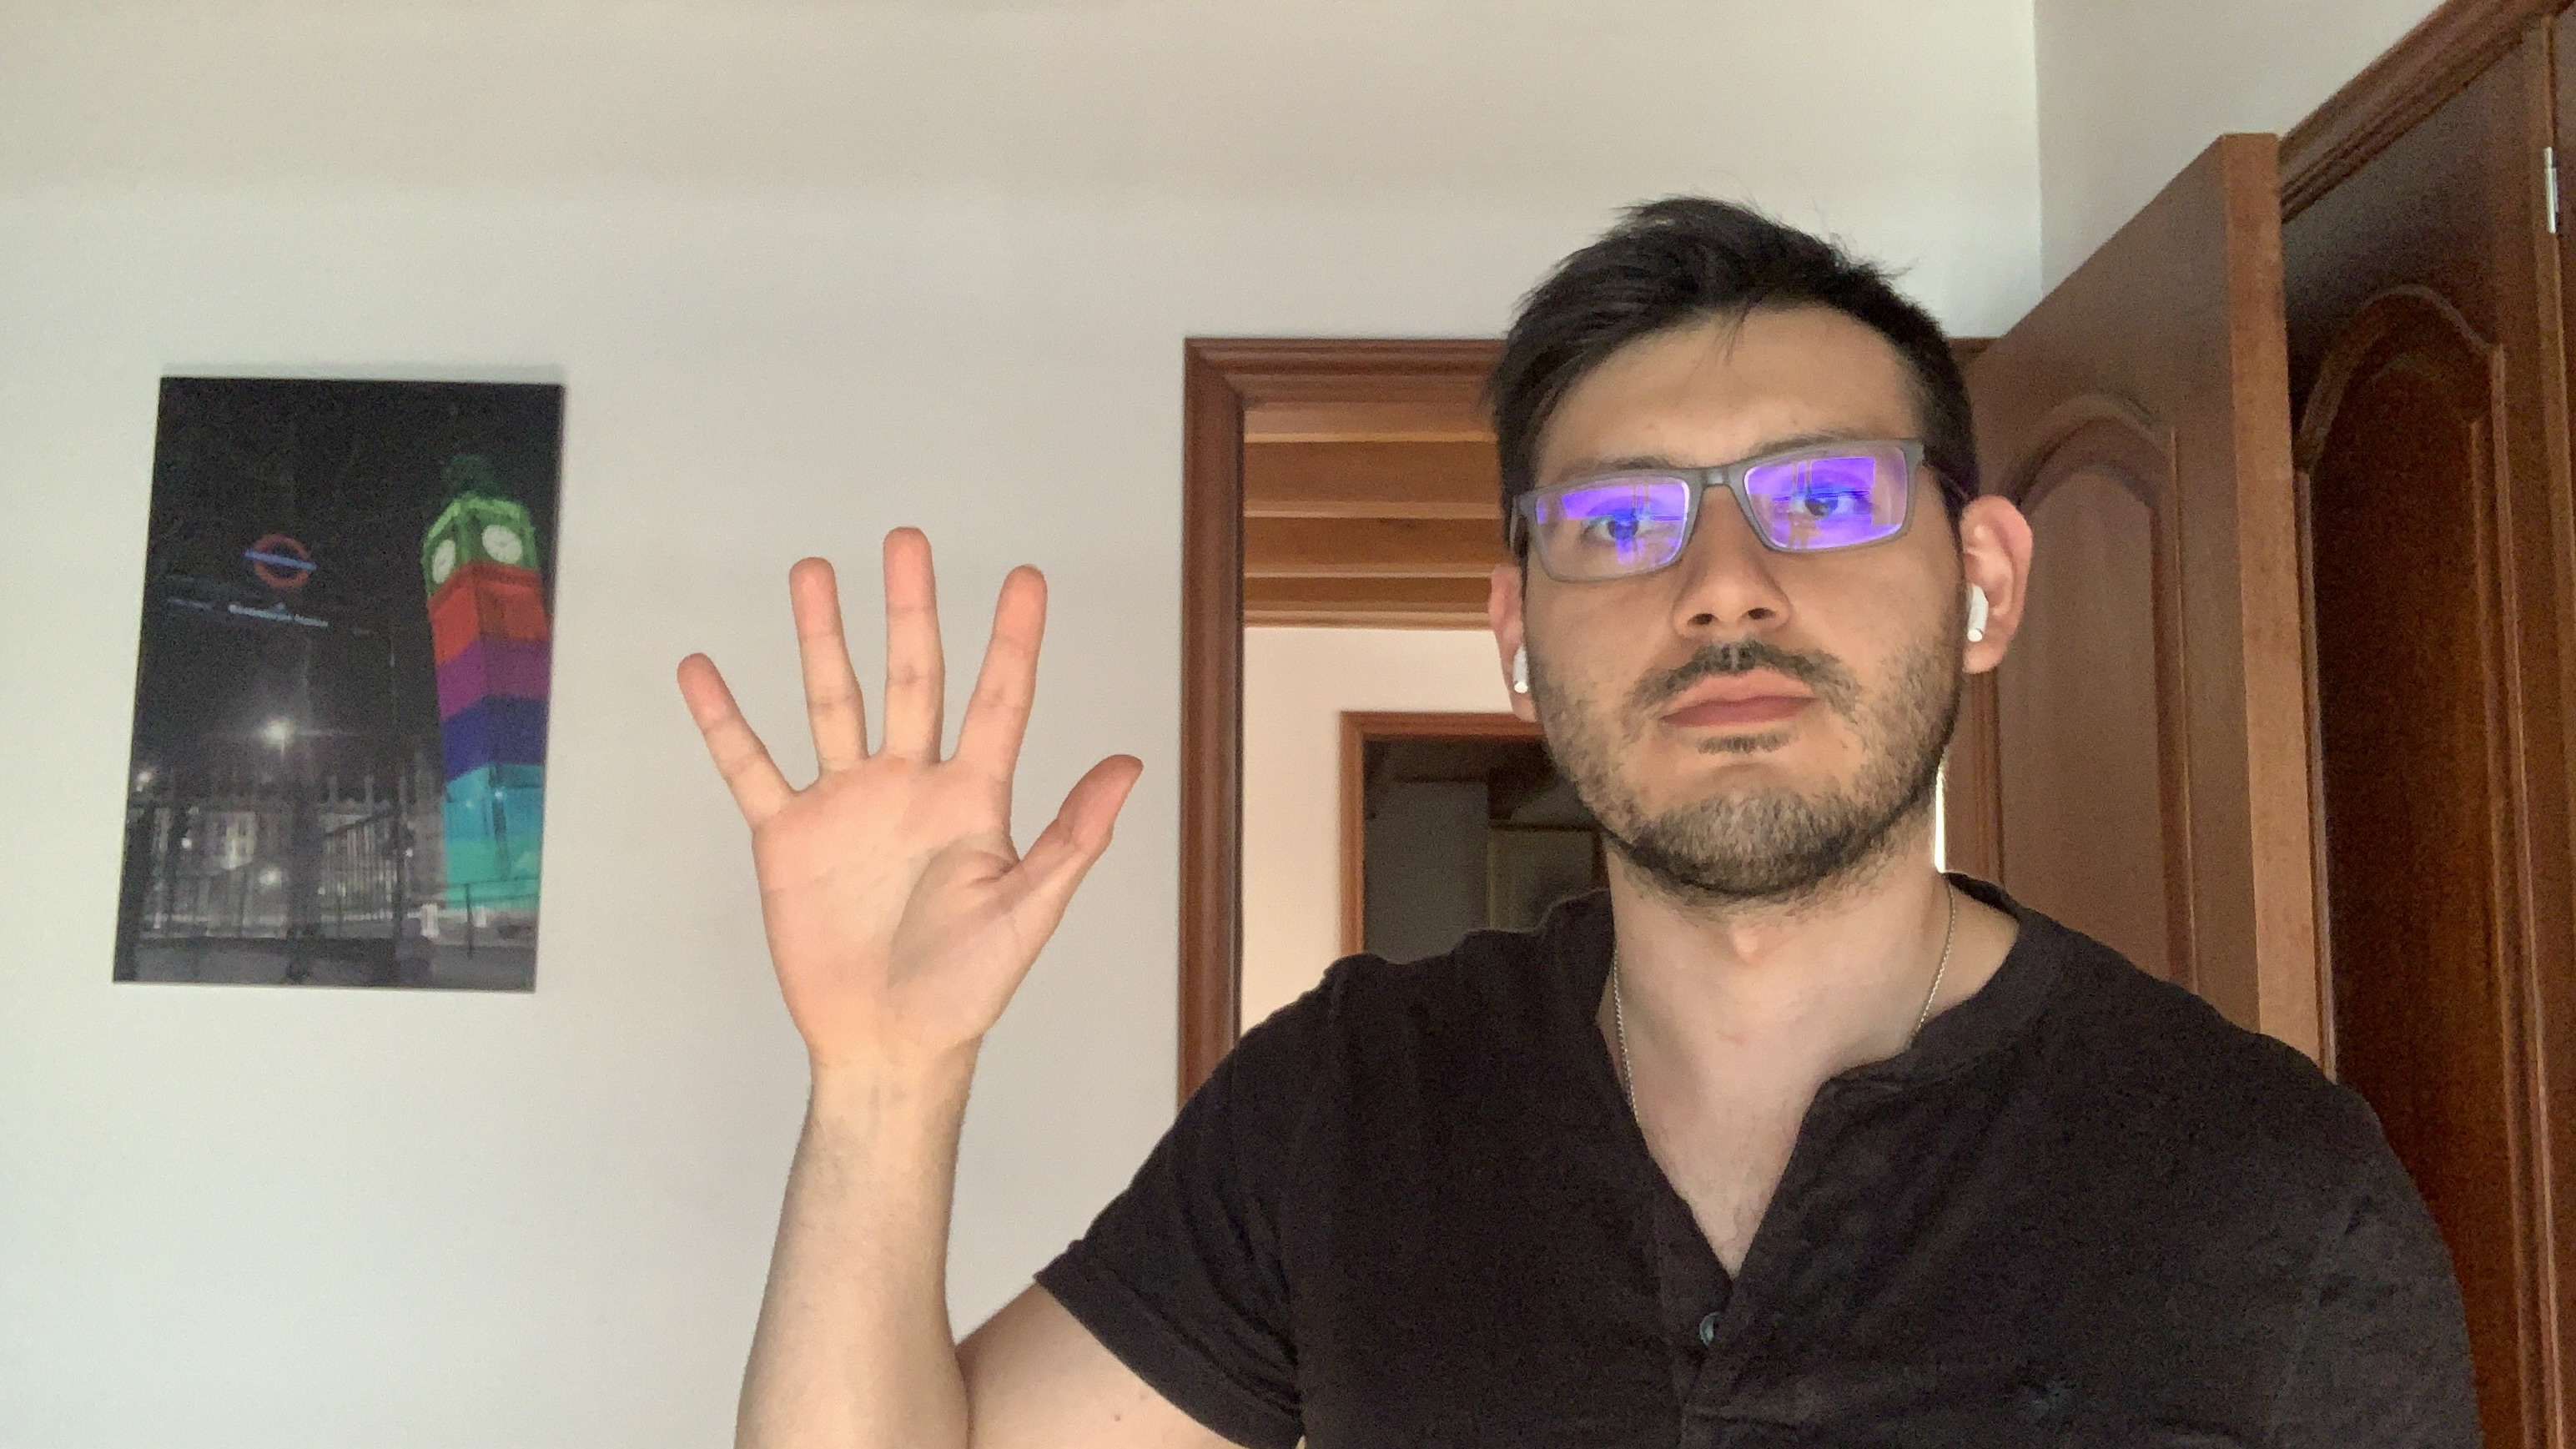Hello: (662, 513, 1157, 1100)
